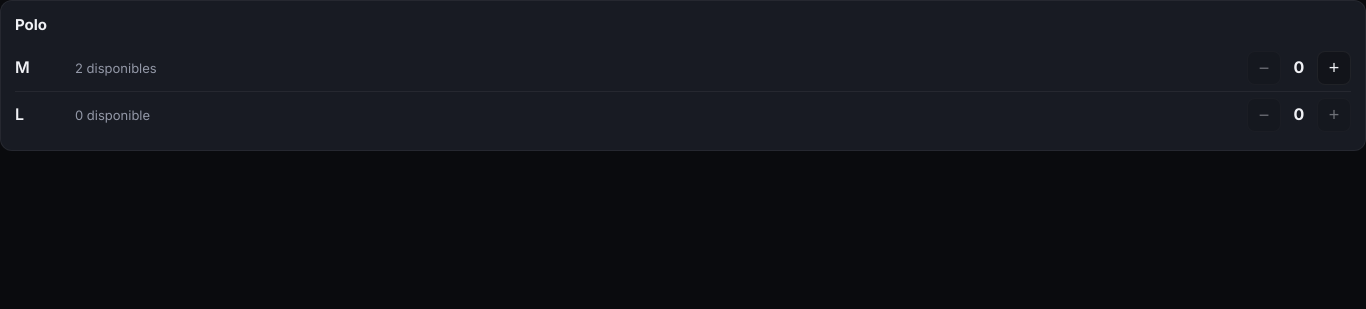
UniformCatalog › retire une ligne du panier
The width and height of the screenshot is (1366, 309).
Click the button named "Ajouter un Polo M au panier".
click(1334, 68)  # box top-left (1317, 51), bottom-right (1351, 85)
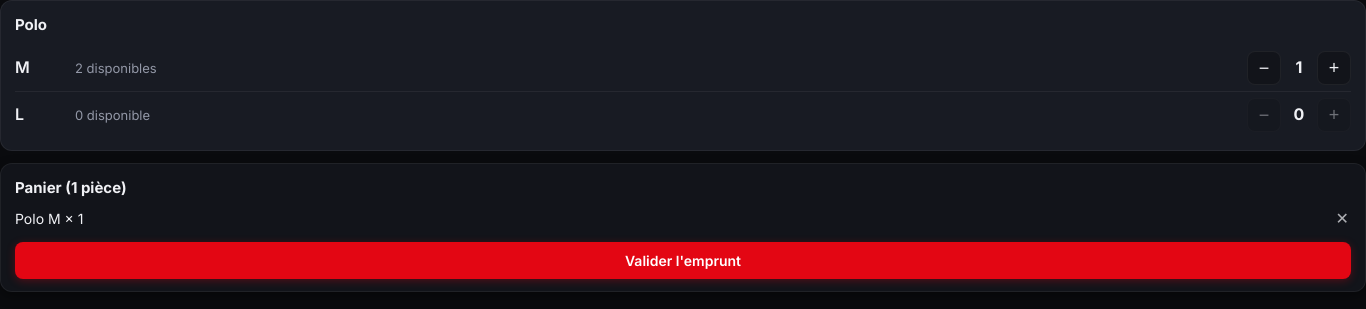
Click the button named "Retirer Polo M du panier".
click(1342, 219)  # box top-left (1334, 211), bottom-right (1351, 227)
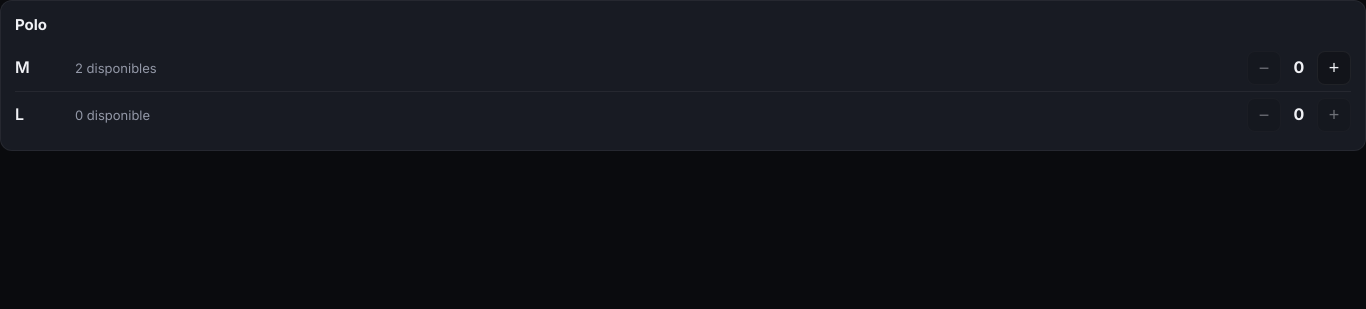
Now the heading "Panier" is gone
